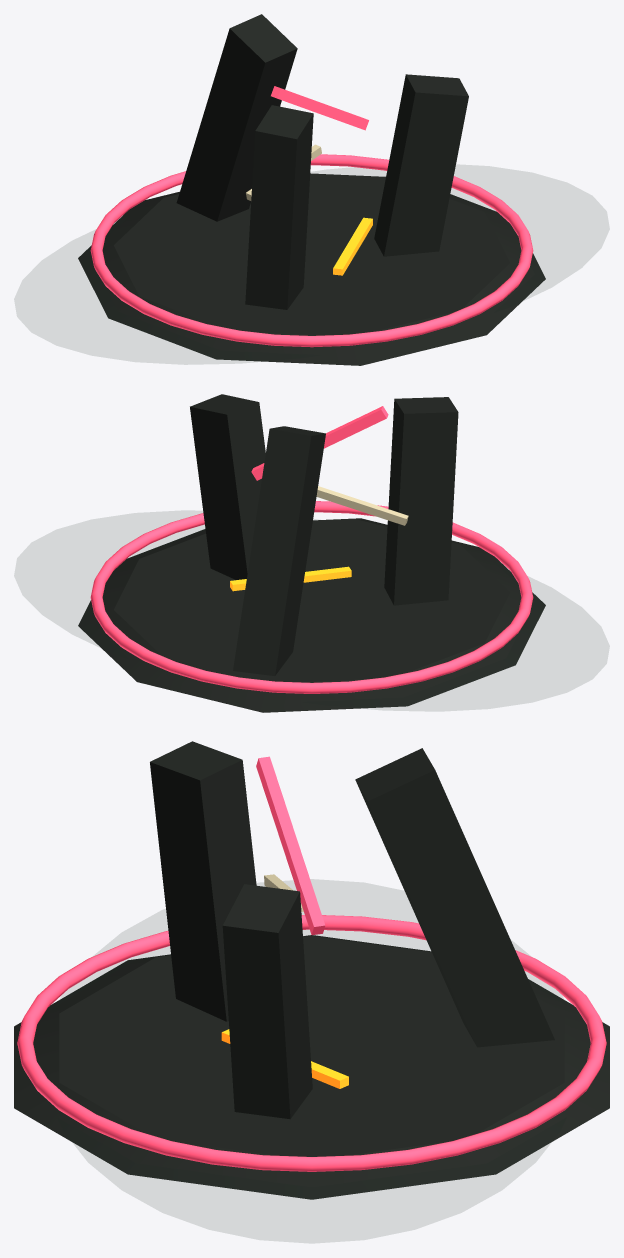
The model's file is forbidden_edge.glb.
3 views of the same model, one above another, from view 1: azimuth 30°, elevation 25°; view 2: azimuth 150°, elevation 25°; view 3: azimuth 270°, elevation 25° (orthographic). The views are drawn at different scales.
Visible parts, largest first — view 1: forbidden_cracked_ground, soft_ground_shadow, forbidden_tilted_stone_2, forbidden_tilted_stone_0, forbidden_tilted_stone_1, forbidden_outer_warning_ring, forbidden_warning_slash, forbidden_ember_crack; view 2: forbidden_cracked_ground, soft_ground_shadow, forbidden_tilted_stone_2, forbidden_tilted_stone_1, forbidden_tilted_stone_0, forbidden_outer_warning_ring, forbidden_warning_slash, forbidden_chalk_cut, forbidden_ember_crack; view 3: forbidden_cracked_ground, forbidden_tilted_stone_2, soft_ground_shadow, forbidden_tilted_stone_1, forbidden_tilted_stone_0, forbidden_outer_warning_ring, forbidden_warning_slash, forbidden_ember_crack.
Boxes of the visible parts, x1=… form: forbidden_cracked_ground: x1=78, y1=173, x2=545, y2=365; soft_ground_shadow: x1=14, y1=165, x2=608, y2=364; forbidden_tilted_stone_2: x1=176, y1=14, x2=297, y2=221; forbidden_tilted_stone_0: x1=374, y1=74, x2=468, y2=256; forbidden_tilted_stone_1: x1=245, y1=105, x2=313, y2=309; forbidden_outer_warning_ring: x1=90, y1=154, x2=533, y2=347; forbidden_warning_slash: x1=271, y1=86, x2=368, y2=130; forbidden_ember_crack: x1=333, y1=217, x2=372, y2=275; forbidden_cracked_ground: x1=78, y1=518, x2=545, y2=712; soft_ground_shadow: x1=14, y1=511, x2=609, y2=710; forbidden_tilted_stone_2: x1=233, y1=426, x2=325, y2=675; forbidden_tilted_stone_1: x1=384, y1=397, x2=458, y2=605; forbidden_tilted_stone_0: x1=190, y1=394, x2=265, y2=579; forbidden_outer_warning_ring: x1=90, y1=501, x2=533, y2=693; forbidden_warning_slash: x1=251, y1=406, x2=388, y2=480; forbidden_chalk_cut: x1=316, y1=486, x2=408, y2=525; forbidden_ember_crack: x1=230, y1=566, x2=351, y2=591; forbidden_cracked_ground: x1=14, y1=935, x2=609, y2=1199; forbidden_tilted_stone_2: x1=355, y1=748, x2=554, y2=1047; soft_ground_shadow: x1=58, y1=879, x2=564, y2=1242; forbidden_tilted_stone_1: x1=150, y1=741, x2=256, y2=1021; forbidden_tilted_stone_0: x1=222, y1=884, x2=312, y2=1119; forbidden_outer_warning_ring: x1=17, y1=915, x2=606, y2=1171; forbidden_warning_slash: x1=256, y1=756, x2=325, y2=935; forbidden_ember_crack: x1=221, y1=1029, x2=348, y2=1088.
Bounding box in the file's own units: 3.25 × 1.29 × 2.24.
